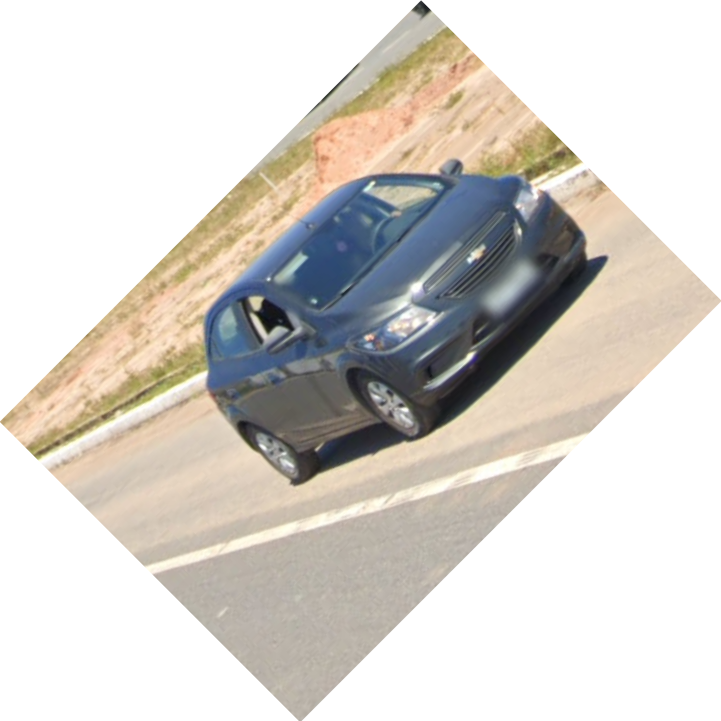car: (204, 155, 589, 484)
